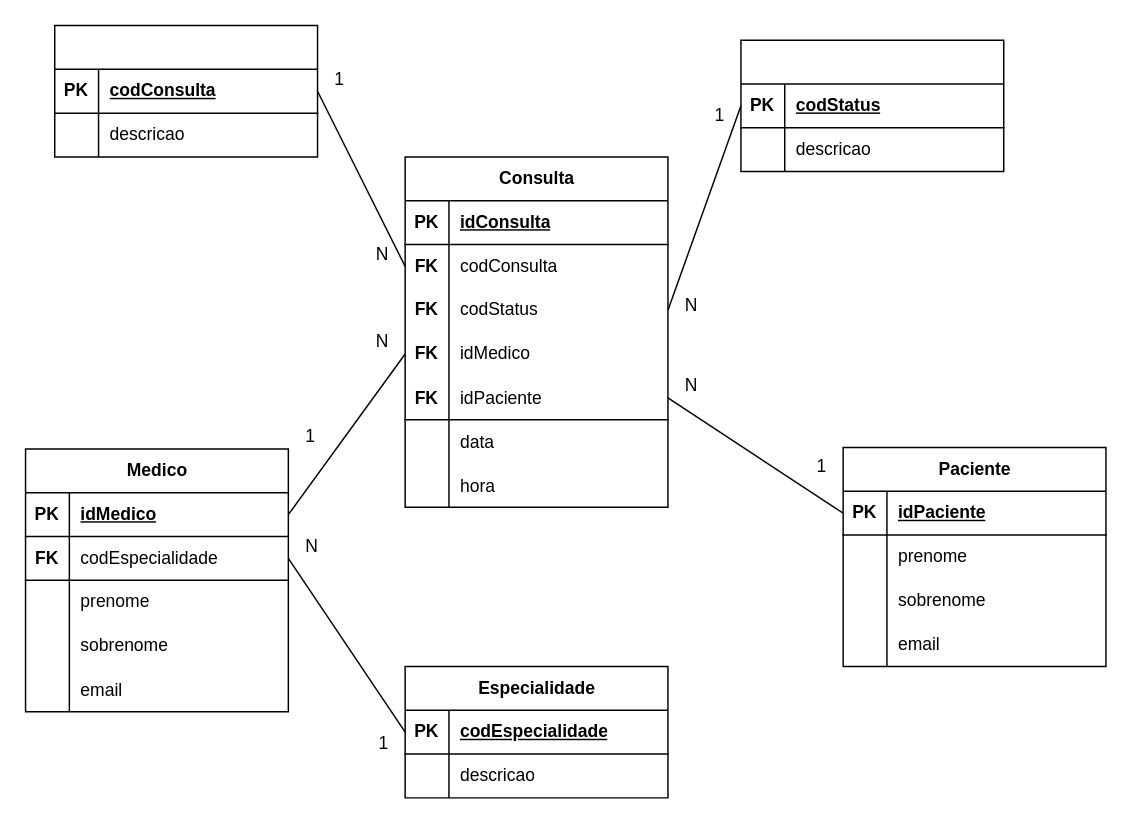
Some shapes in this 1132 by 823 pixel diagram are drawn without their labels. The box of each missing label's shape, as (x1, y1, x2, y2) in pixels:
Status_Consulta: (739, 39, 1004, 172)
Tipo_Consulta: (53, 24, 318, 157)
